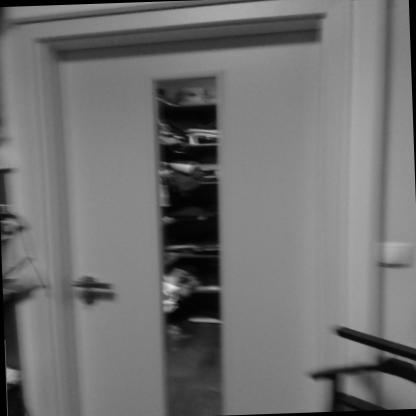closed: (5, 4, 379, 416)
